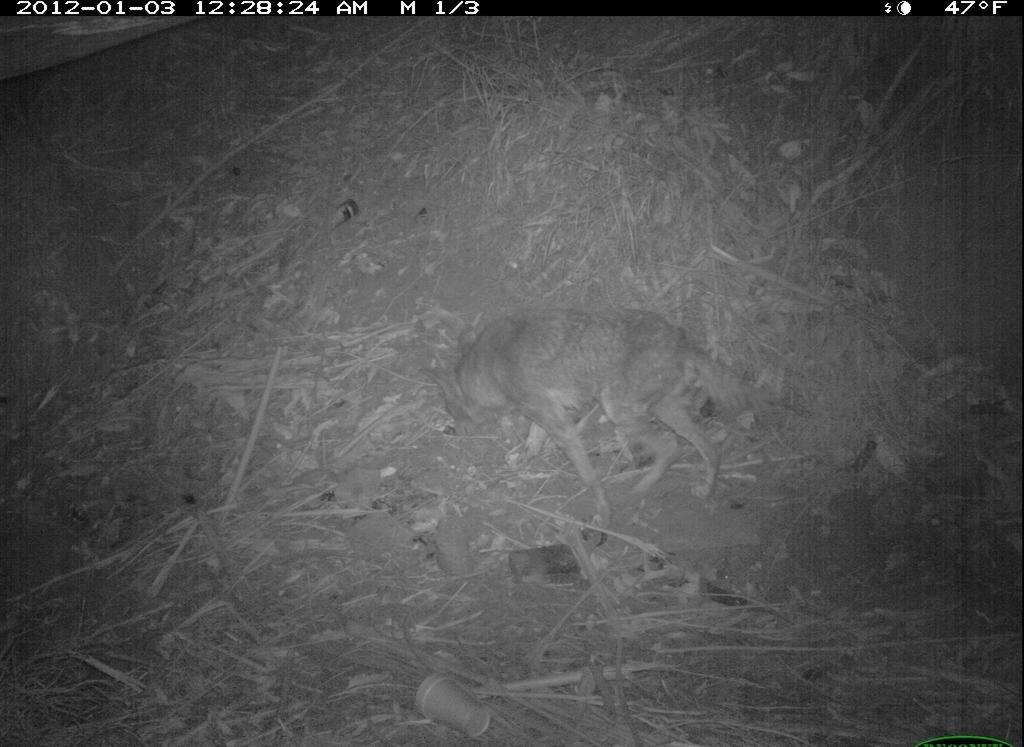coyote: (419, 297, 784, 536)
